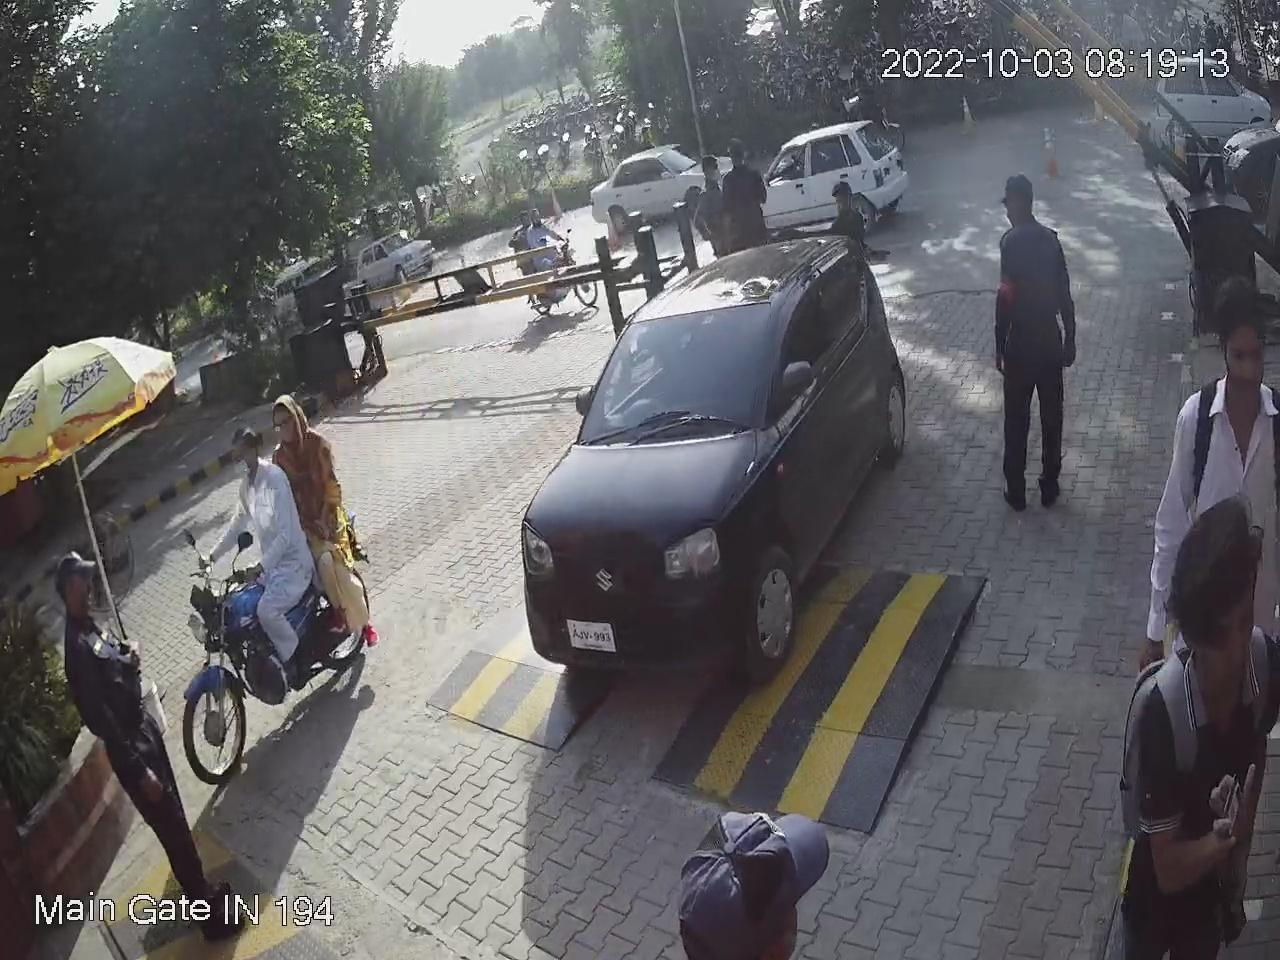windshield: (570, 292, 785, 438)
